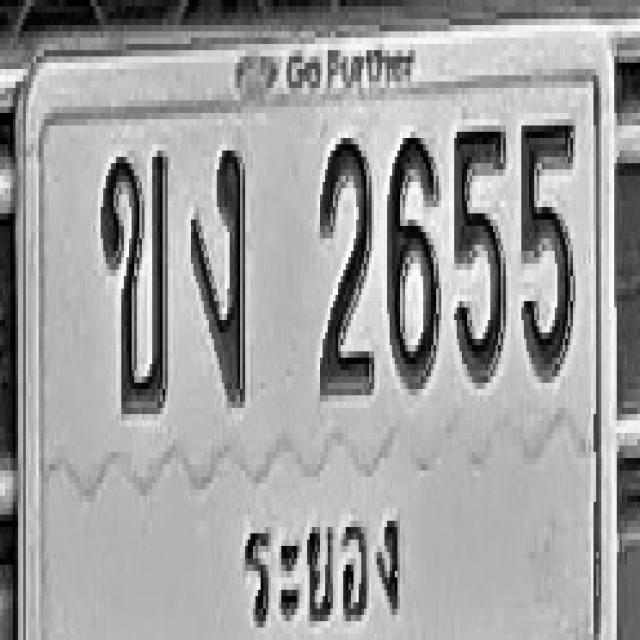11KhorKhai: (100, 147, 168, 411)
16NgorNgu: (190, 144, 244, 402)
2: (319, 132, 373, 395)
5: (520, 119, 574, 377), (453, 119, 504, 383)
6: (387, 132, 439, 389)
Rayong: (232, 484, 402, 640)
